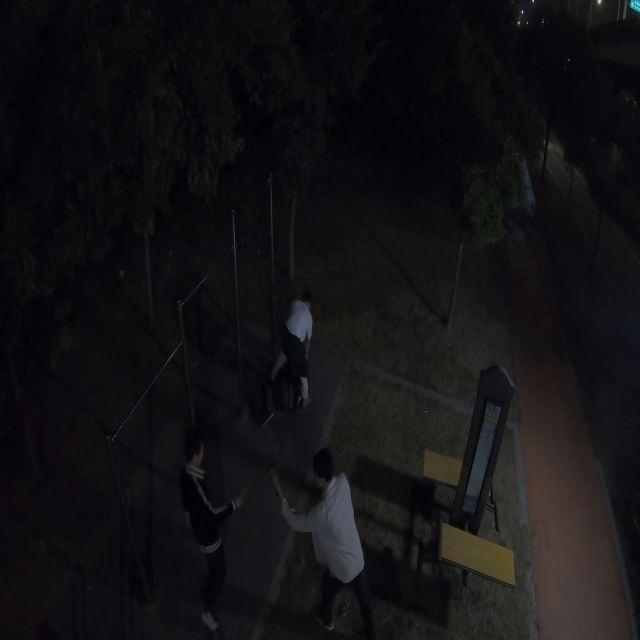fight: (265, 450, 383, 640), (172, 435, 247, 632), (264, 294, 317, 422)
